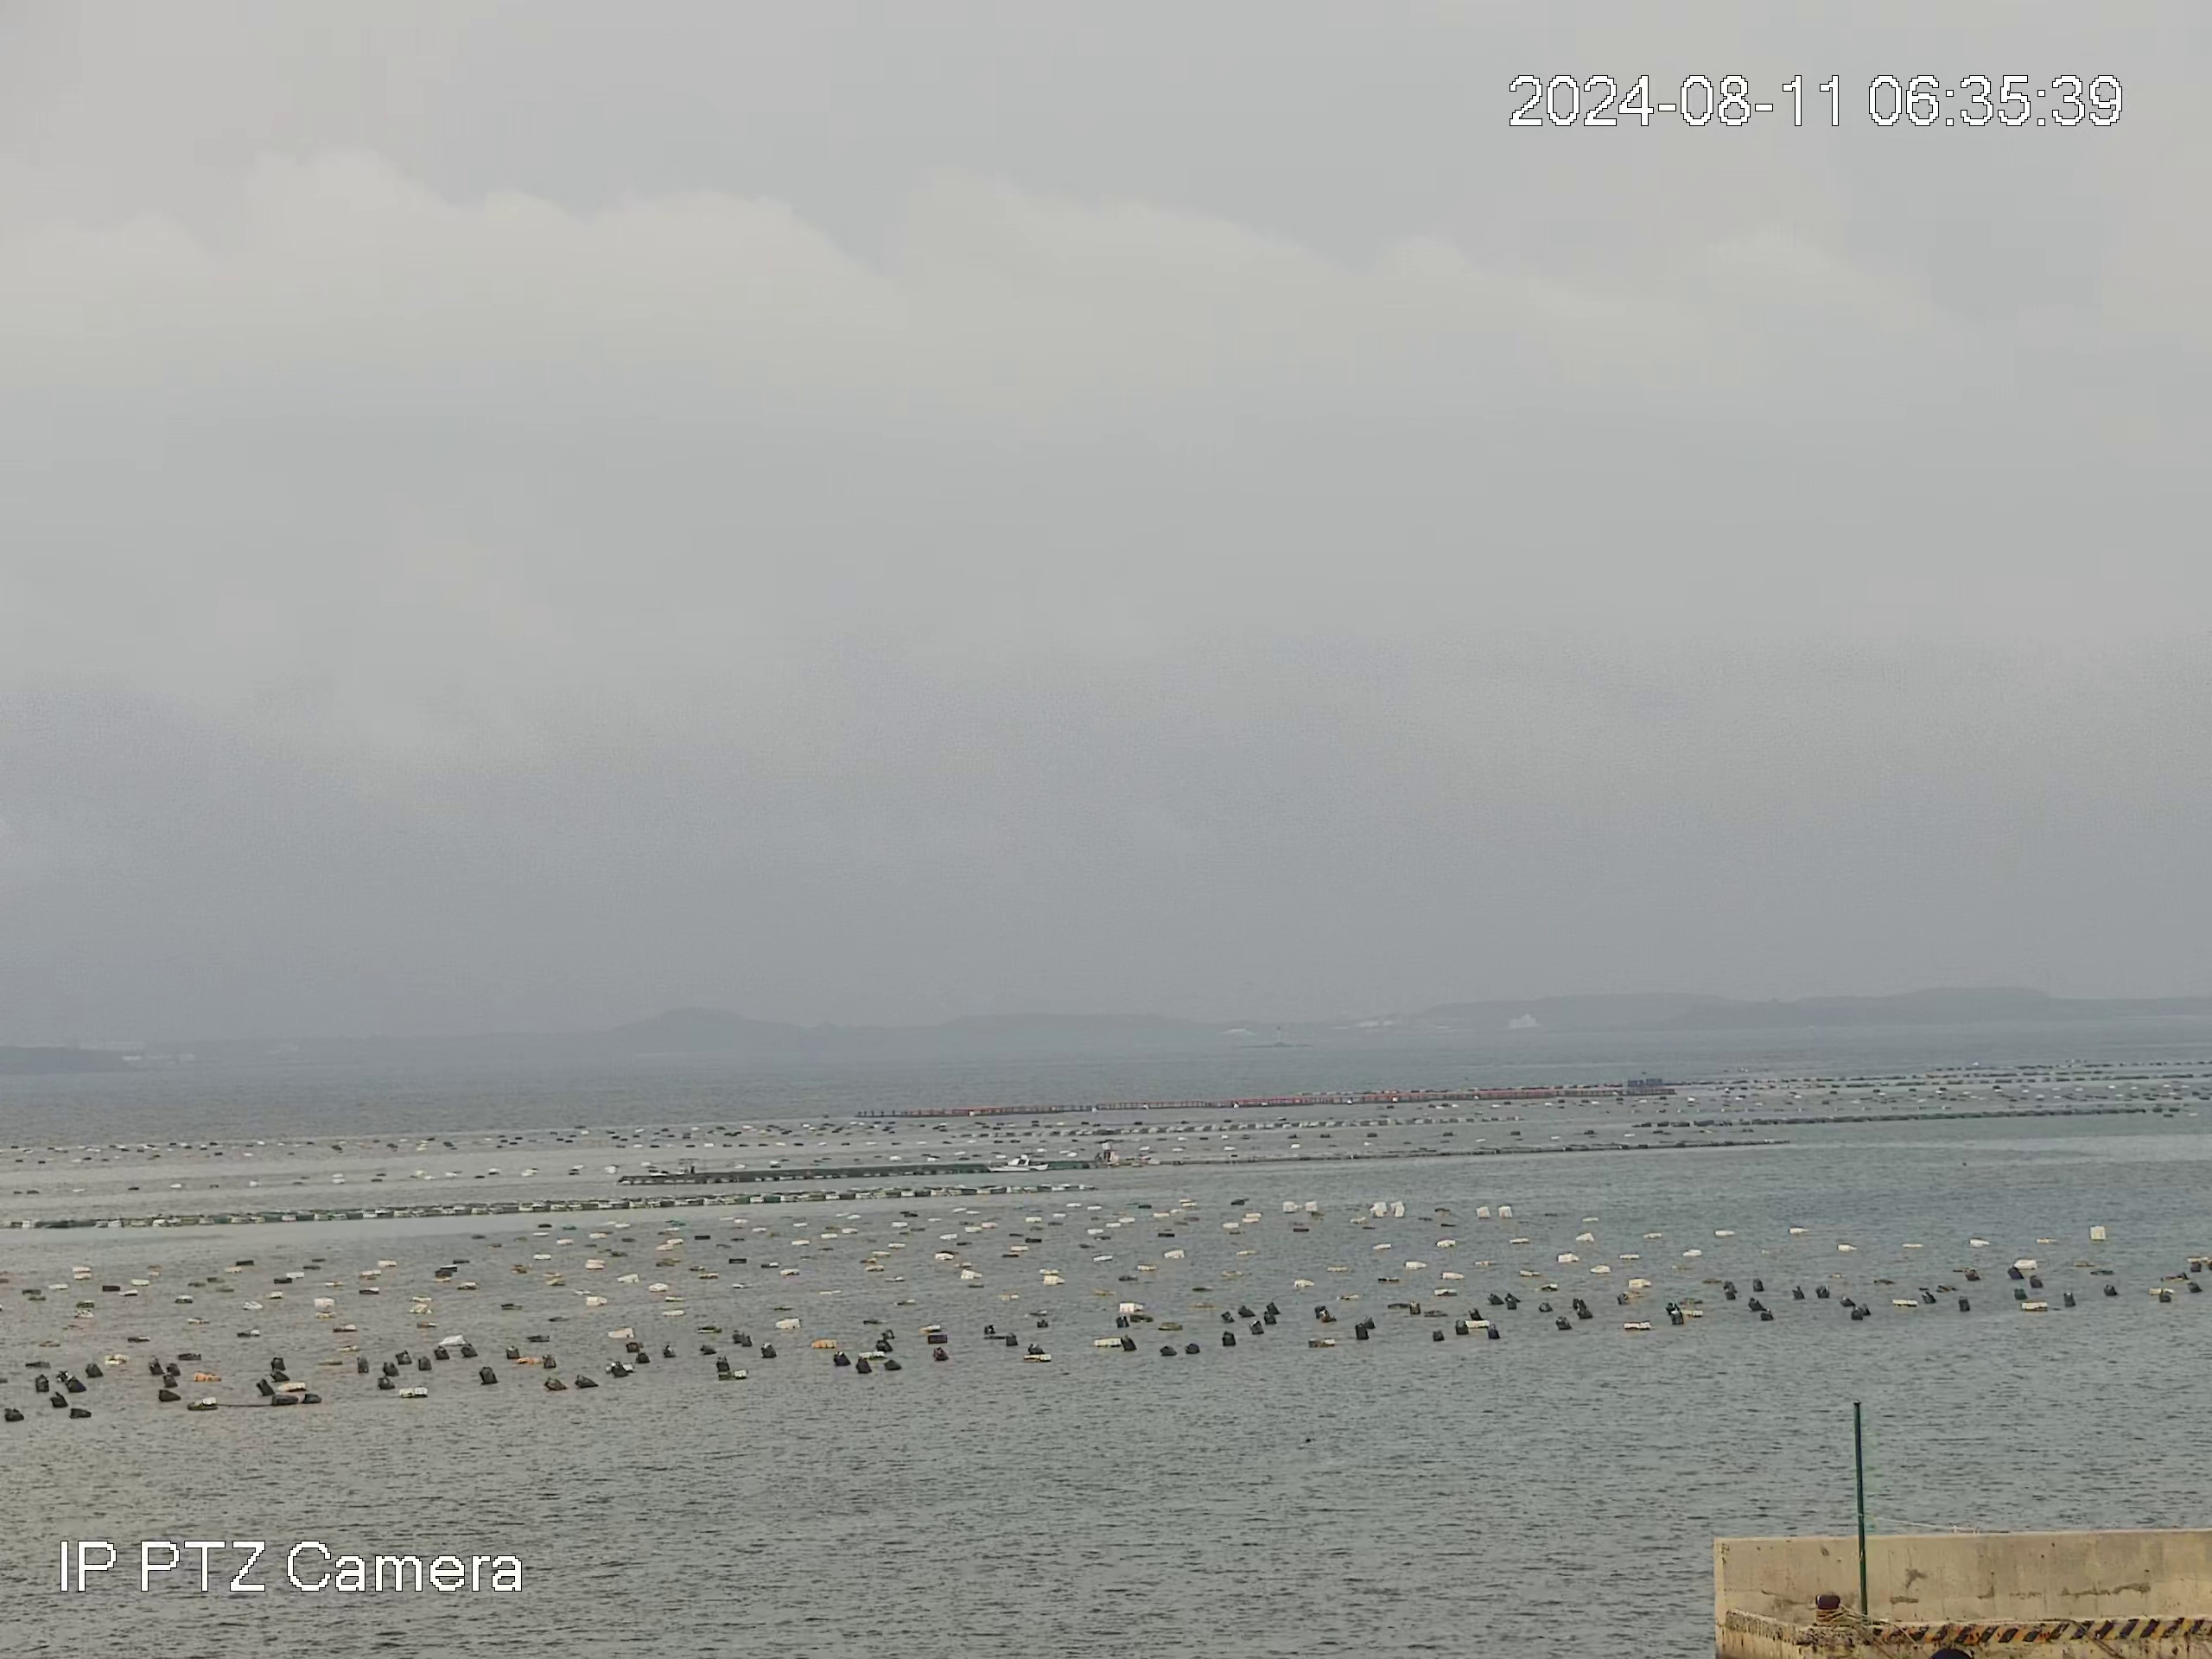boat: (986, 1152, 1050, 1175)
